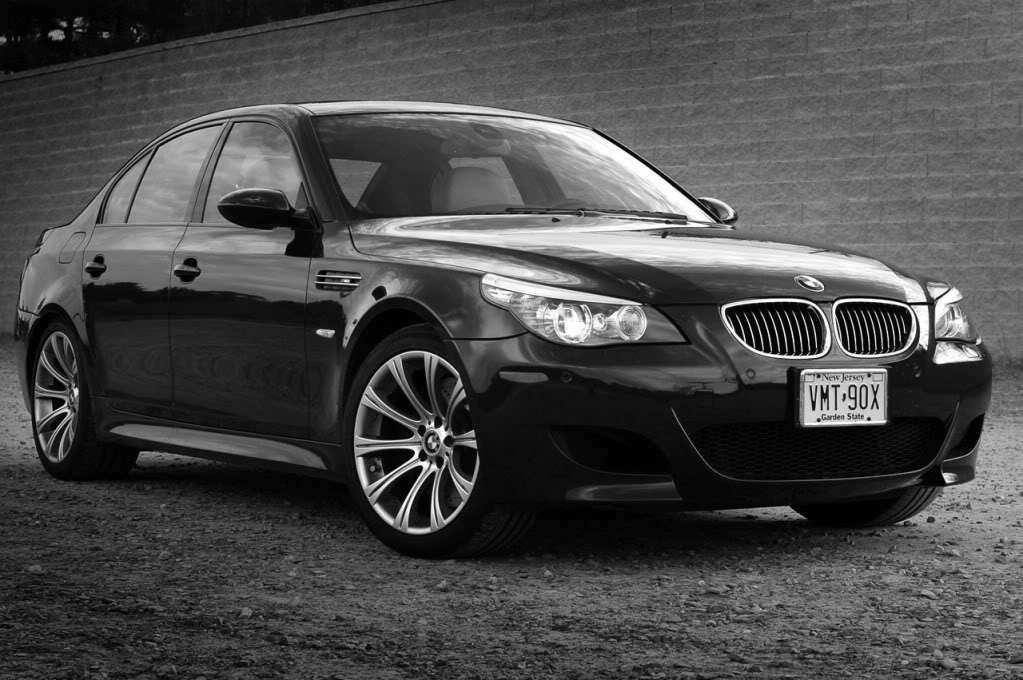car: (18, 100, 996, 564)
